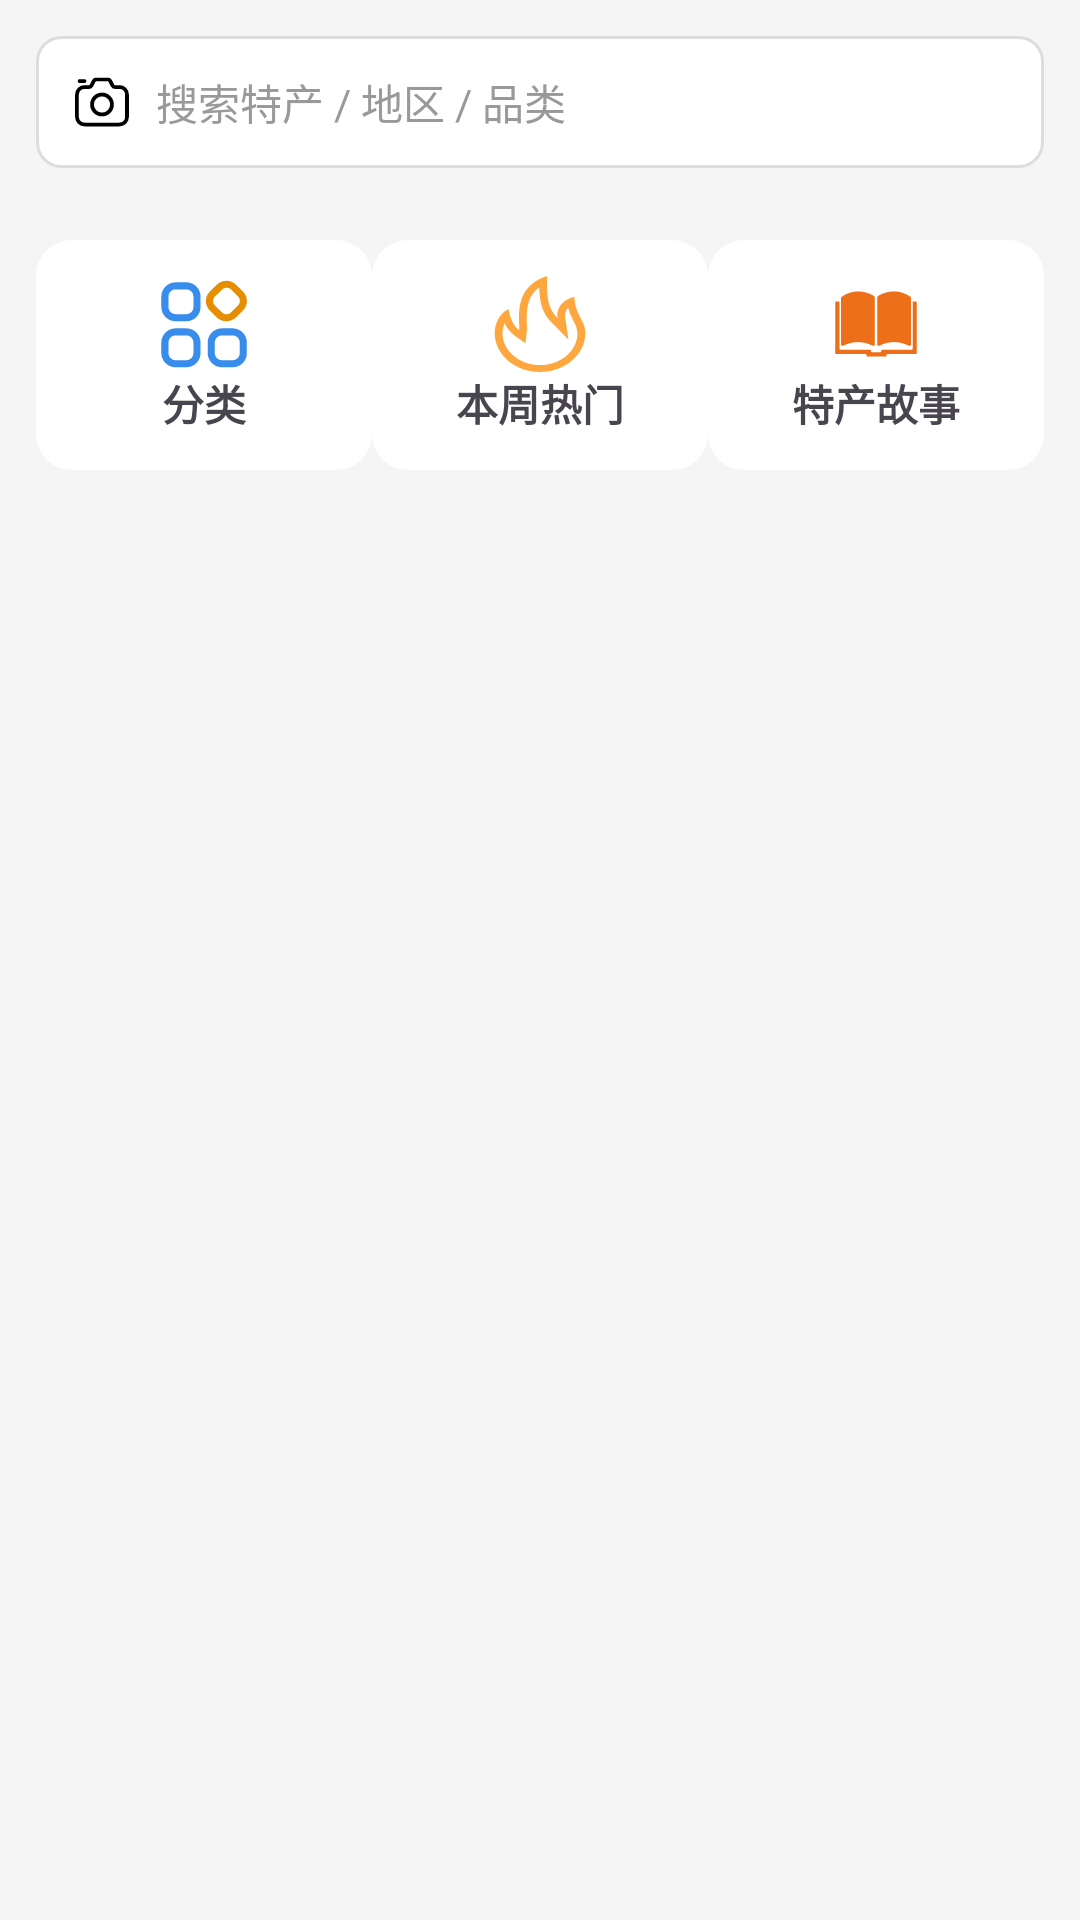

Where to tap for icons on this 1080px×1920px app screen, as point (x, y):
camera: point (102, 102)
